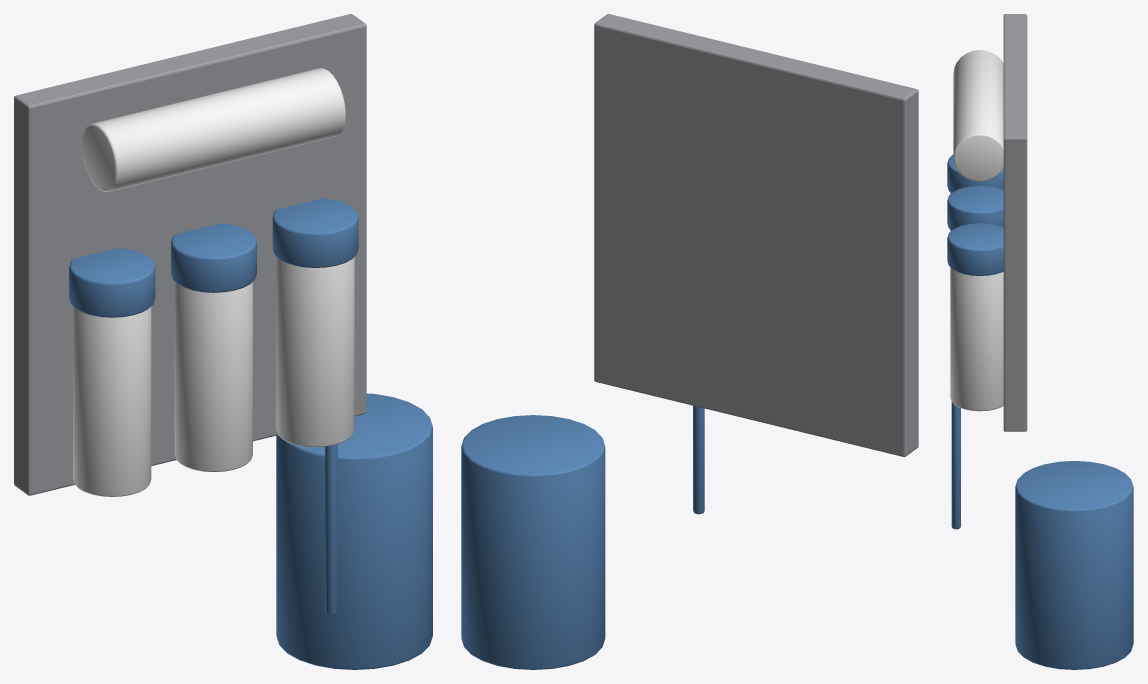
Rendered from waterFilter.glb.
3 views of the same model, side by side, from view 1: azimuth 30°, elevation 25°; view 2: azimuth 150°, elevation 25°; view 3: azimuth 270°, elevation 25° (orthographic). The views are drawn at different scales.
Visible parts, largest first — view 1: WaterFilter; view 2: WaterFilter; view 3: WaterFilter.
Boxes of the visible parts, left/top/right/bottom form: WaterFilter: left=14, top=14, right=432, bottom=669; WaterFilter: left=461, top=14, right=918, bottom=669; WaterFilter: left=947, top=14, right=1133, bottom=669.
Size of the model in its own units: 0.65 by 0.925 by 0.315.
